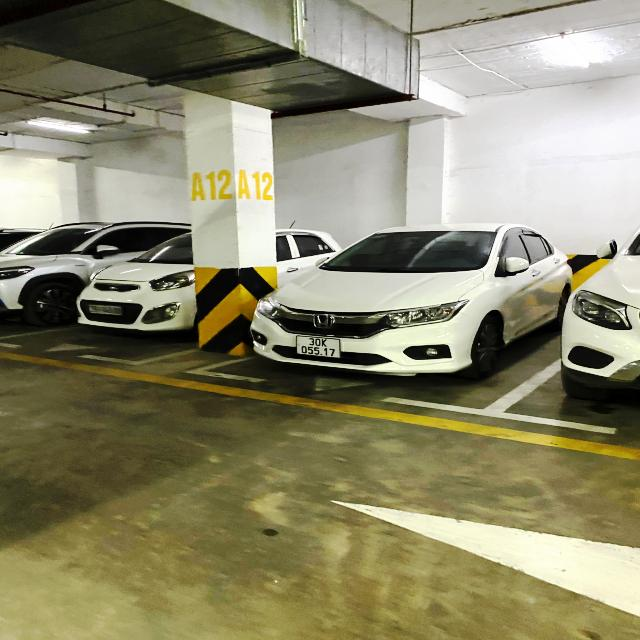license_plate: (295, 337, 343, 359)
